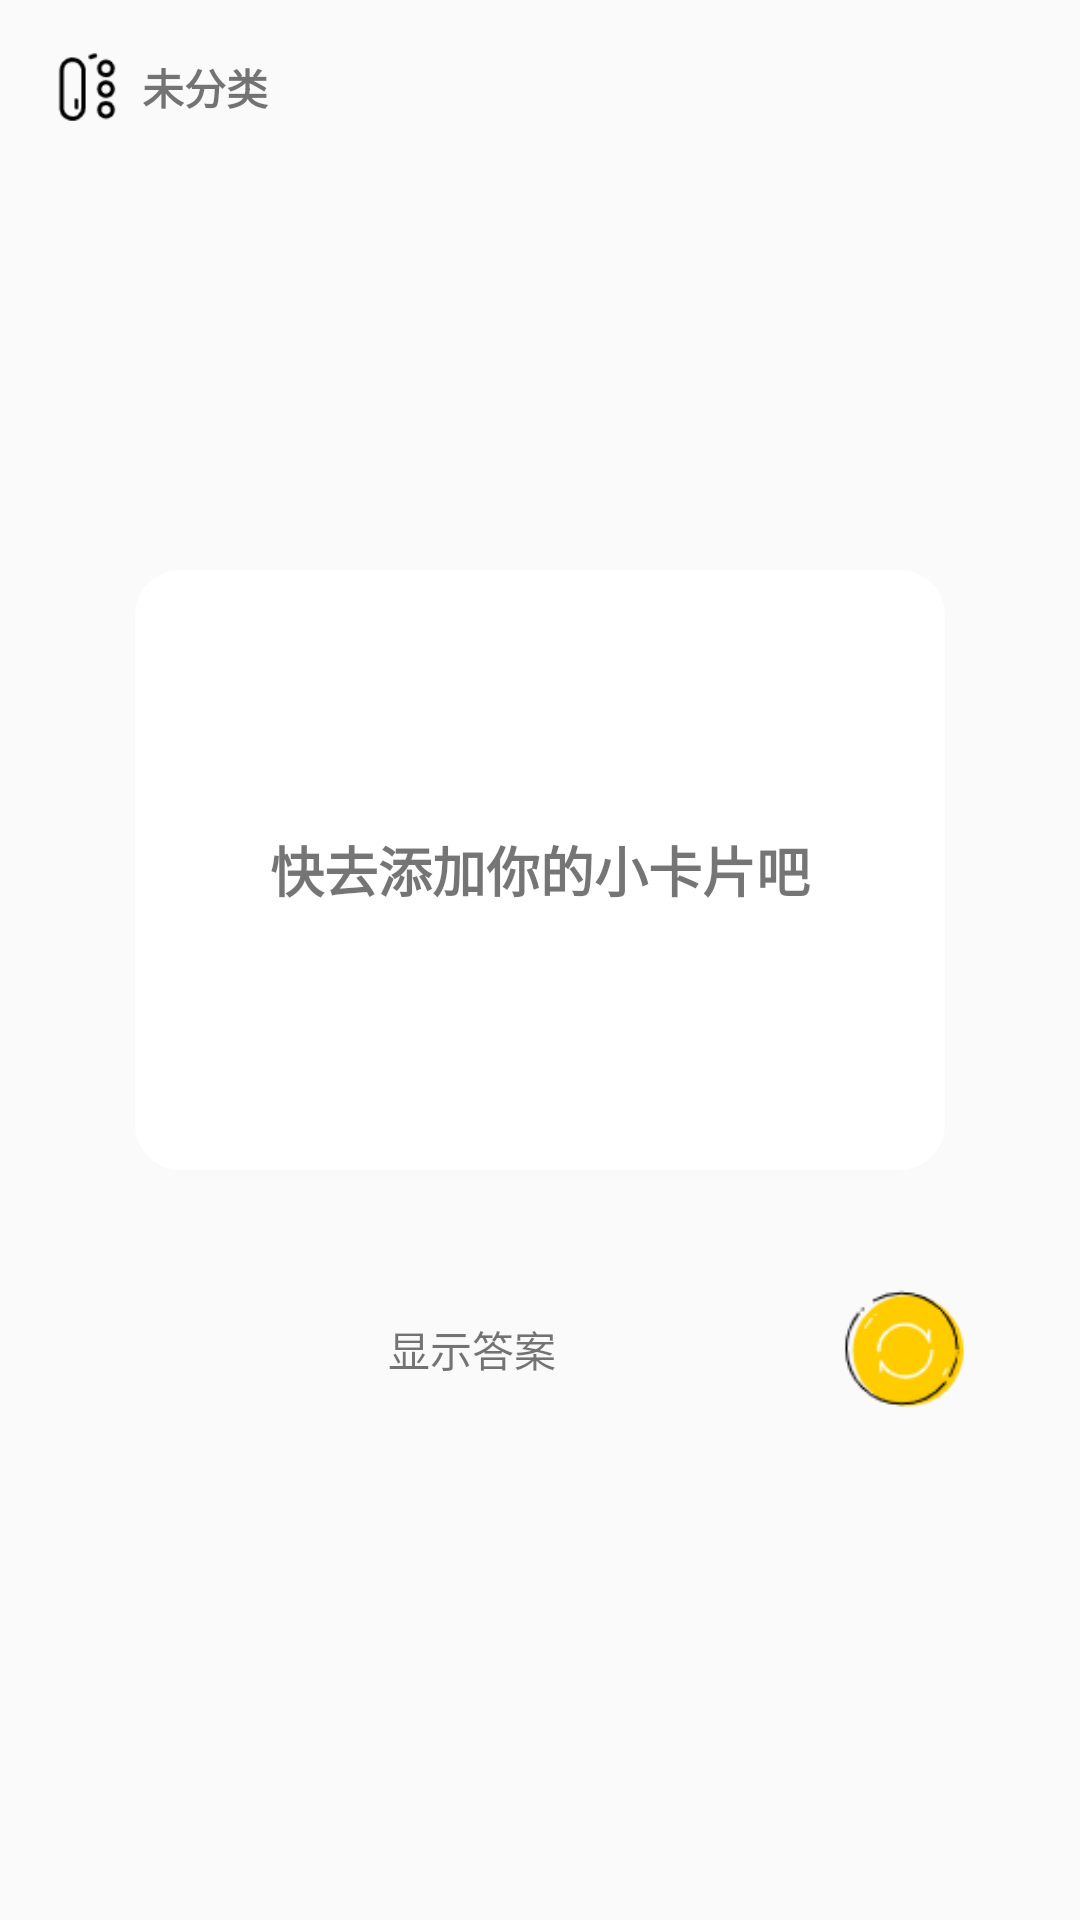

Icon bounding boxes for this 1080×1920 phone screenshot, format (x1, y1, x2, y2):
category: (58, 53, 116, 121)
